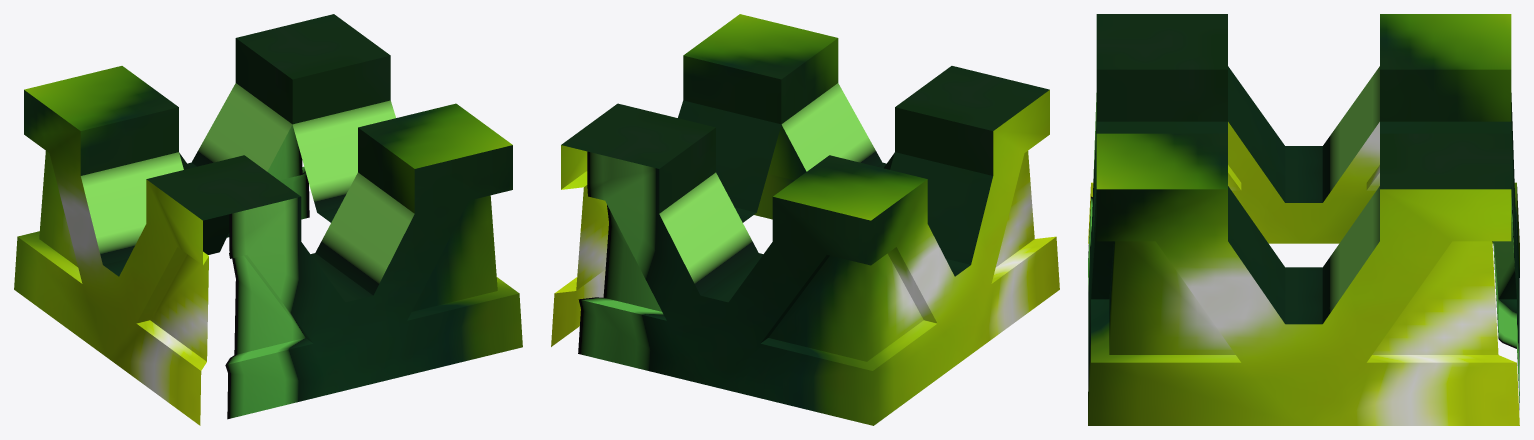
The model's file is sn_shengdi_basepost_002.FBX.
The picture shows the model from 3 angles, left to right: view 1: azimuth 30°, elevation 25°; view 2: azimuth 150°, elevation 25°; view 3: azimuth 270°, elevation 25°; orthographic projection. The views are drawn at different scales.
Visible parts, largest first — view 1: sn_shengdi_basepost_002; view 2: sn_shengdi_basepost_002; view 3: sn_shengdi_basepost_002.
Part boxes in pixels (left/top/right/bottom): sn_shengdi_basepost_002: left=14, top=14, right=522, bottom=425; sn_shengdi_basepost_002: left=551, top=14, right=1059, bottom=425; sn_shengdi_basepost_002: left=1088, top=14, right=1519, bottom=425.
Size of the model in its own units: 174 by 174 by 104.
